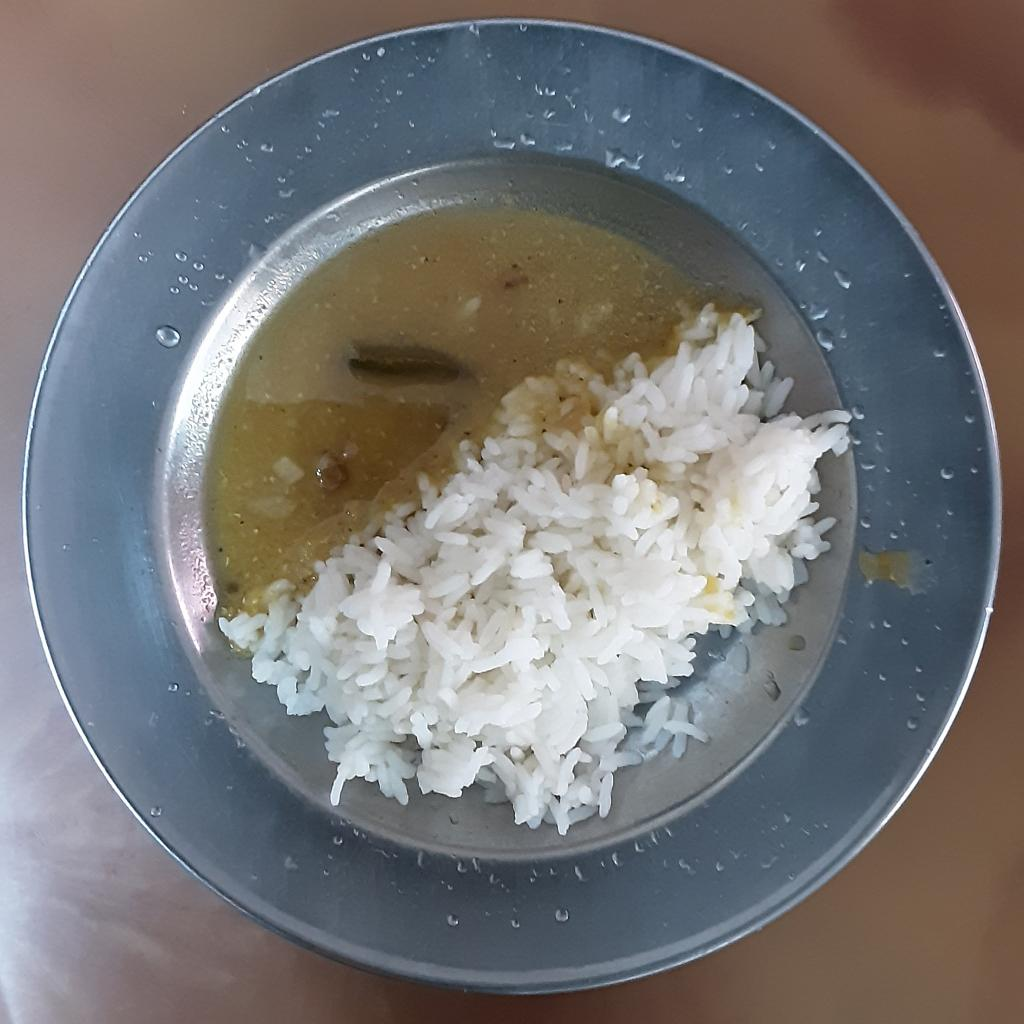daal: (195, 201, 722, 618)
rice: (216, 292, 850, 829)
